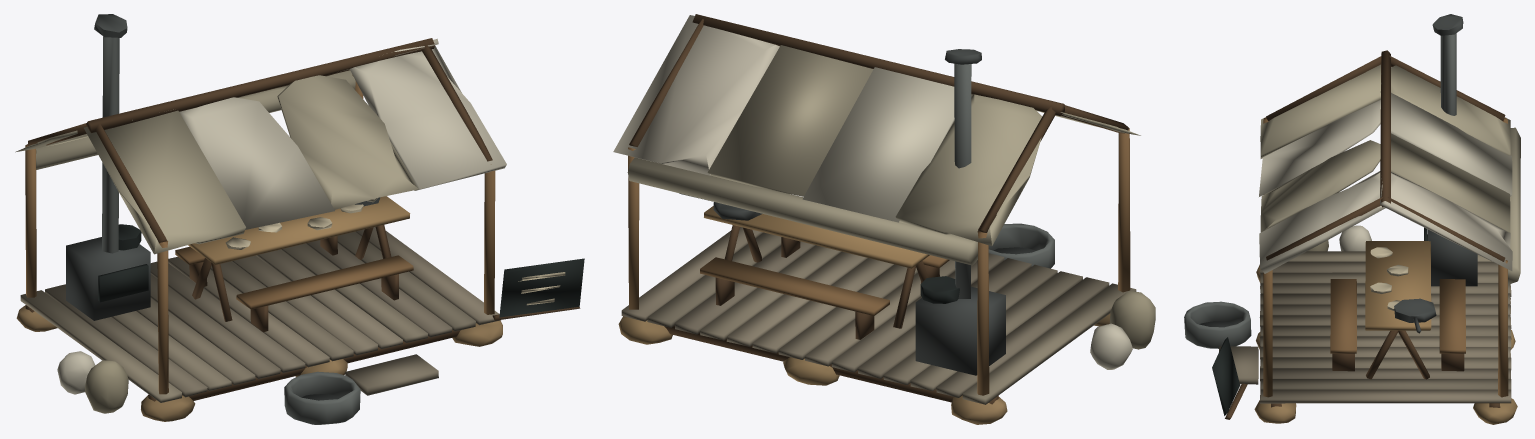
The model's file is crew_cookshack_a_lod2.glb.
3 renders of one model, left to right at view 1: azimuth 30°, elevation 25°; view 2: azimuth 150°, elevation 25°; view 3: azimuth 270°, elevation 25°, orthographic. The views are drawn at different scales.
Parts seen in each view (by area): view 1: Surface.001; view 2: Surface.001; view 3: Surface.001.
Boxes of the visible parts, bbox=[...] form: Surface.001: bbox=[15, 14, 584, 424]; Surface.001: bbox=[613, 14, 1155, 424]; Surface.001: bbox=[1184, 14, 1520, 424].
Size of the model in its own units: 5.5 by 3.76 by 4.01.
